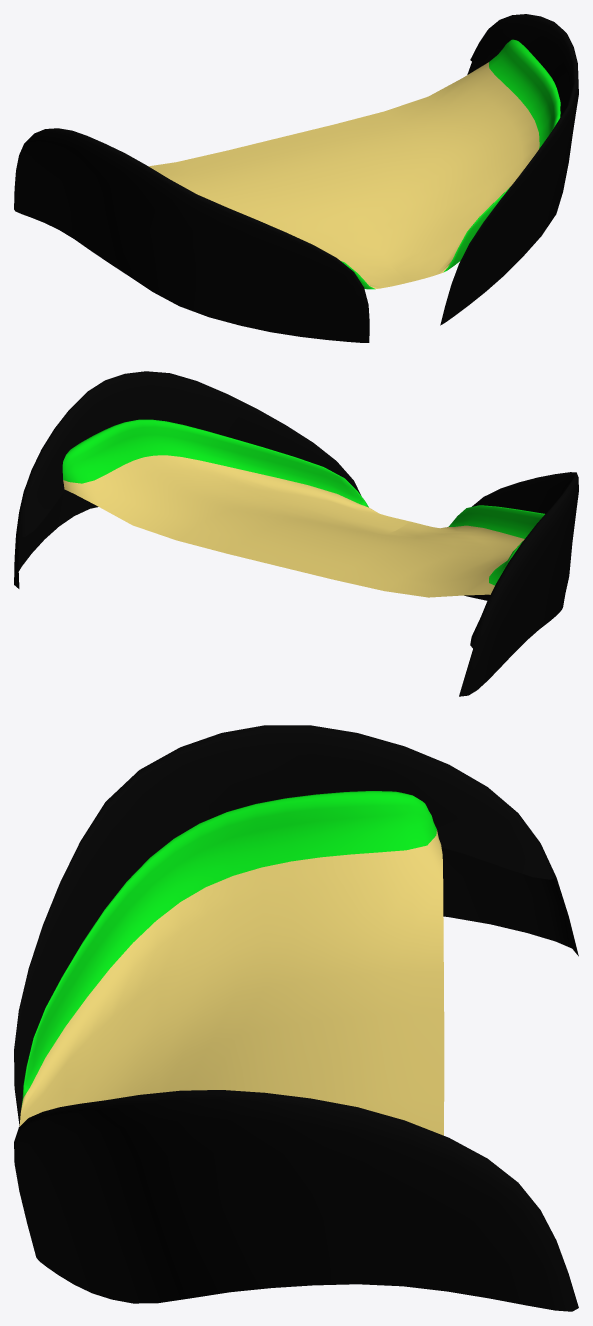
File: slide2.fbx
3 views of the same model, one above another, from view 1: azimuth 30°, elevation 25°; view 2: azimuth 150°, elevation 25°; view 3: azimuth 270°, elevation 25° (orthographic). The views are drawn at different scales.
Visible parts, largest first — view 1: slide, Plane.003, Plane.004; view 2: slide, Plane.004, Plane.003; view 3: slide, Plane.004, Plane.003.
Boxes of the visible parts, <box> form: slide: <box>149,39,560,289</box>; Plane.003: <box>14,128,369,342</box>; Plane.004: <box>440,14,578,325</box>; slide: <box>62,419,544,597</box>; Plane.004: <box>14,371,360,588</box>; Plane.003: <box>459,472,578,696</box>; slide: <box>19,791,444,1135</box>; Plane.004: <box>14,1090,578,1311</box>; Plane.003: <box>14,725,578,1125</box>.
Bounding box in the file's own units: 7.09 × 2.77 × 4.42.
